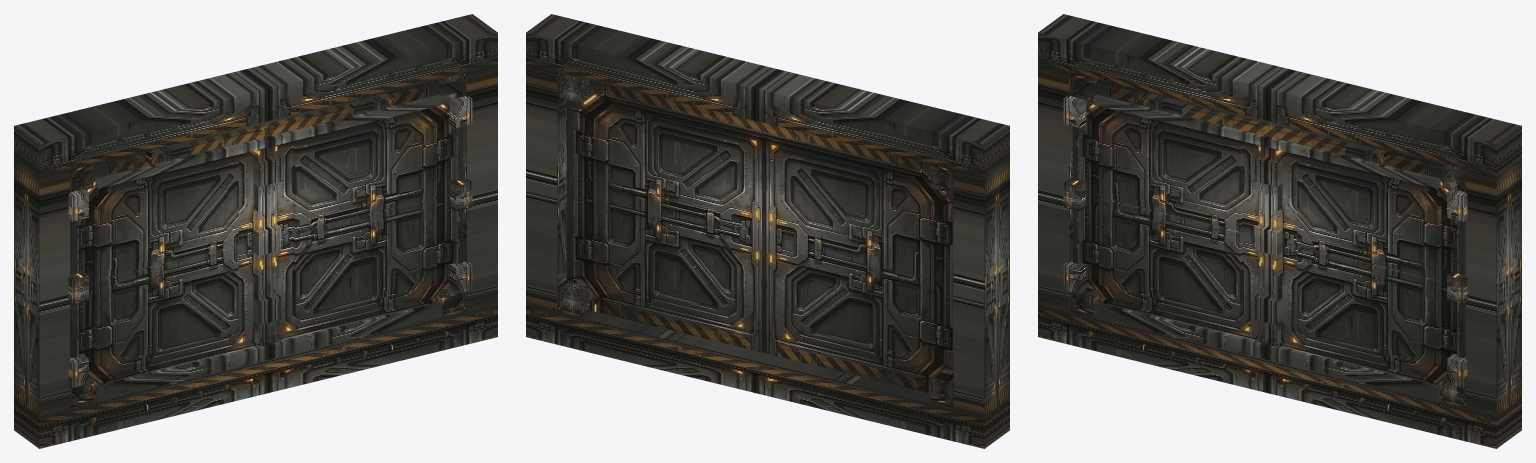
The model's file is hangar_kapi_ankora.glb.
The picture shows the model from 3 angles, left to right: view 1: azimuth 30°, elevation 25°; view 2: azimuth 150°, elevation 25°; view 3: azimuth 330°, elevation 25°; orthographic projection.
Parts seen in each view (by area): view 1: FRAME, DOOR_R, DOOR_L; view 2: FRAME, DOOR_R, DOOR_L; view 3: FRAME, DOOR_L, DOOR_R.
Part boxes in pixels (x1,y1,x2,y2): FRAME: (14,14,497,448); DOOR_R: (264,79,463,343); DOOR_L: (70,122,270,398); FRAME: (526,14,1009,448); DOOR_R: (566,80,764,352); DOOR_L: (765,123,953,393); FRAME: (1038,14,1521,448); DOOR_L: (1072,79,1271,343); DOOR_R: (1265,122,1465,398).
Size of the model in its own units: 10.4 by 6.6 by 1.14.
Materials: 1 (1 with a texture image).
